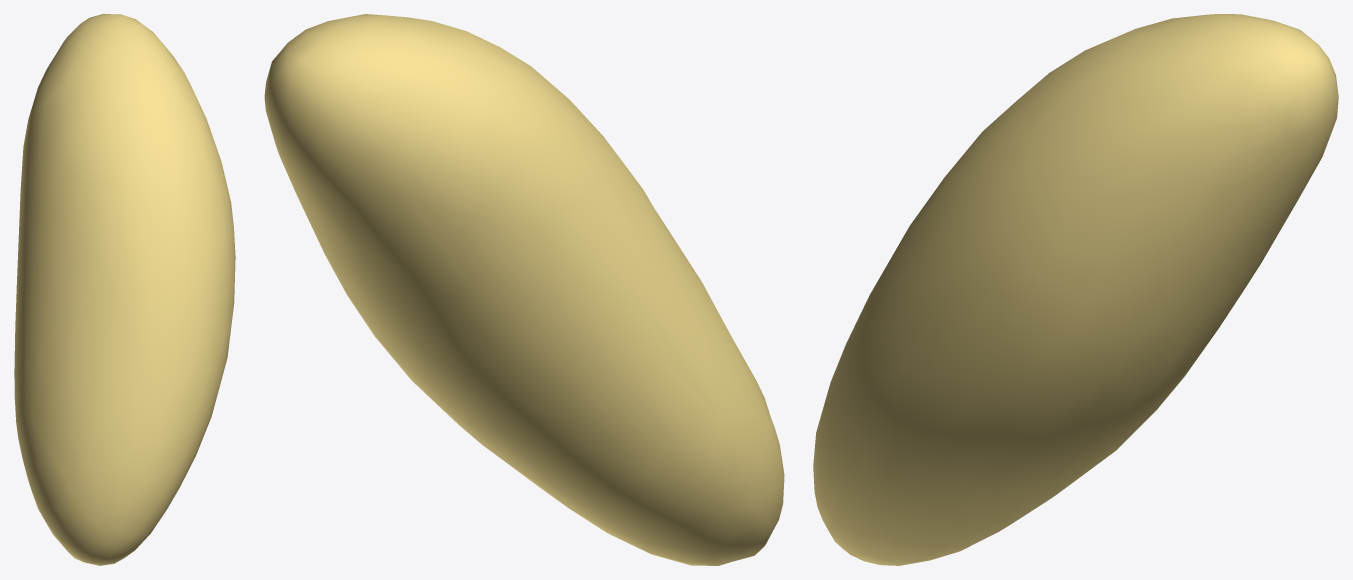
File: fma53553_mm2602m.glb
3 renders of one model, left to right at view 1: azimuth 30°, elevation 25°; view 2: azimuth 150°, elevation 25°; view 3: azimuth 270°, elevation 25°, orthographic. The views are drawn at different scales.
Parts seen in each view (by area): view 1: FMA53553_MM2602M; view 2: FMA53553_MM2602M; view 3: FMA53553_MM2602M.
Boxes of the visible parts, x1,y1,x2,y2 form: FMA53553_MM2602M: (14, 14, 235, 565); FMA53553_MM2602M: (264, 14, 784, 565); FMA53553_MM2602M: (813, 14, 1338, 565).
Size of the model in its own units: 0.00408 by 0.00684 by 0.00517.
